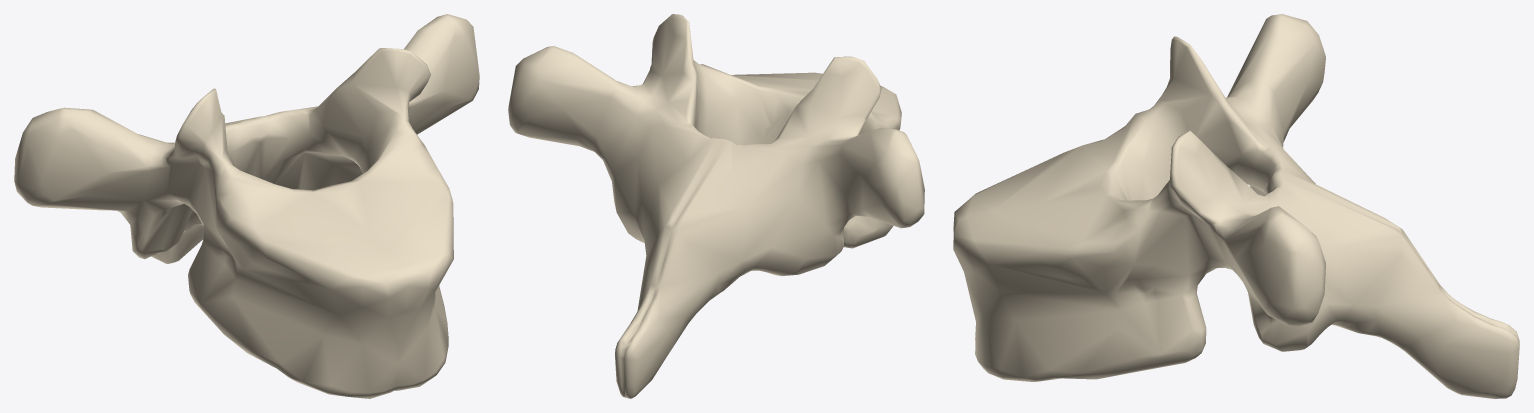
The model's file is vertebra-t4.glb.
The picture shows the model from 3 angles, left to right: view 1: azimuth 30°, elevation 25°; view 2: azimuth 150°, elevation 25°; view 3: azimuth 270°, elevation 25°; orthographic projection. The views are drawn at different scales.
Parts seen in each view (by area): view 1: Vertebra T4; view 2: Vertebra T4; view 3: Vertebra T4.
Part boxes in pixels (x1,y1,x2,y2): Vertebra T4: (14, 14, 479, 398); Vertebra T4: (508, 14, 924, 398); Vertebra T4: (953, 14, 1519, 398).
Size of the model in its own units: 0.0709 by 0.0431 by 0.0713.
